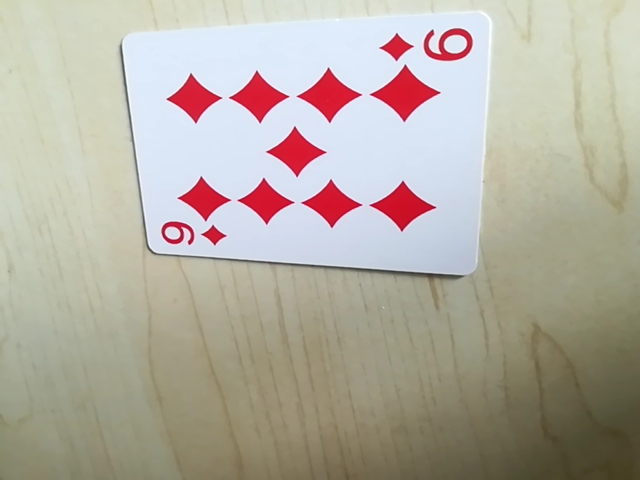fk 9: (376, 19, 479, 71), (153, 219, 232, 256)
